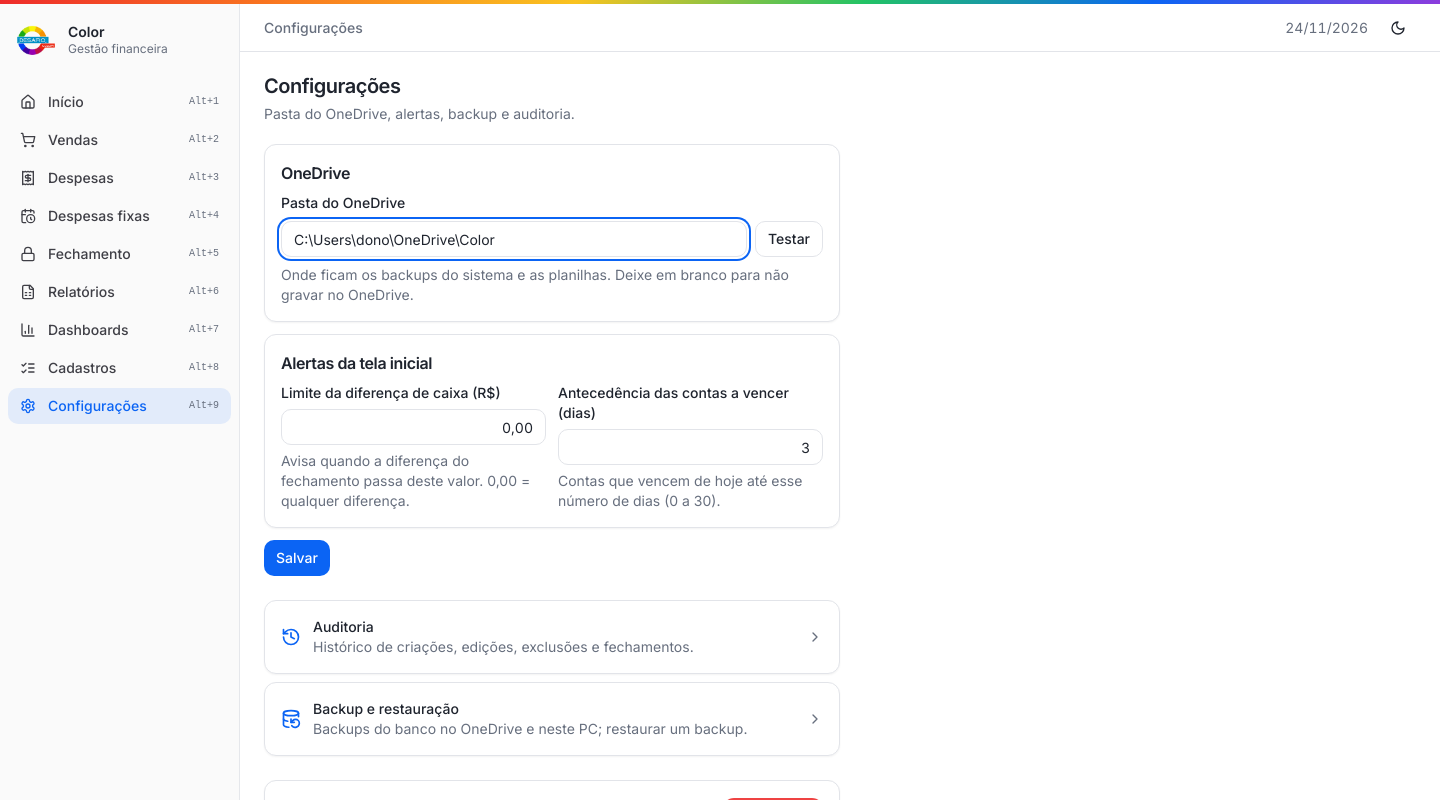
Test: FR-33: Configurações form › FR-33: Enter saves the values and focus returns to the first field
The width and height of the screenshot is (1440, 800).
Check: the field labelled "Pasta do OneDrive" holds "C:\\Users\\dono\\OneDrive\\Color", box [281,221,747,257]
Replace the text in the field labelled "Limite da diferença de caixa (R$)" with "5,50": {"x": 414, "y": 427} [281,409,546,445]
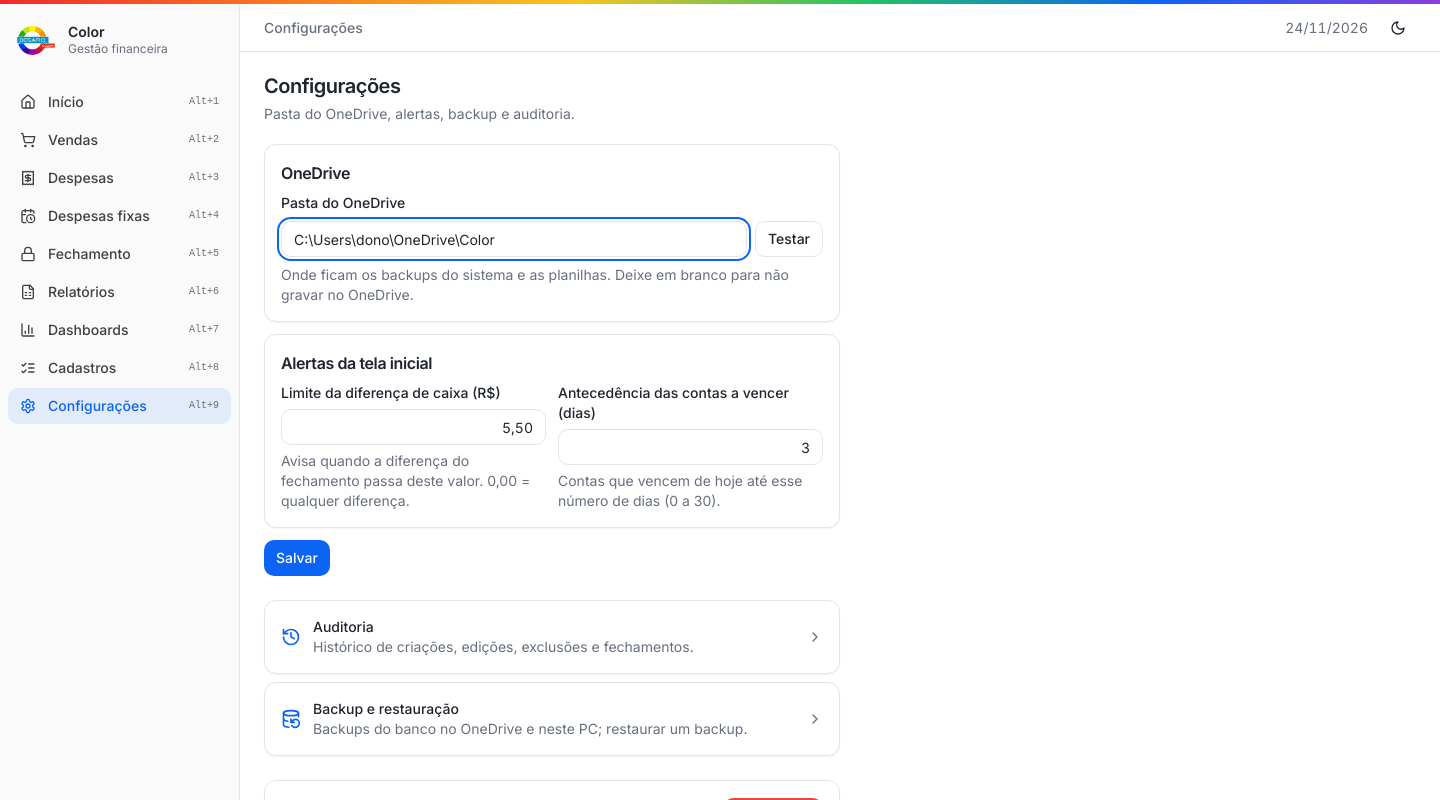
Replace the text in the field labelled "Antecedência das contas a vencer (dias)" with "7": {"x": 690, "y": 447} [558,429,823,465]
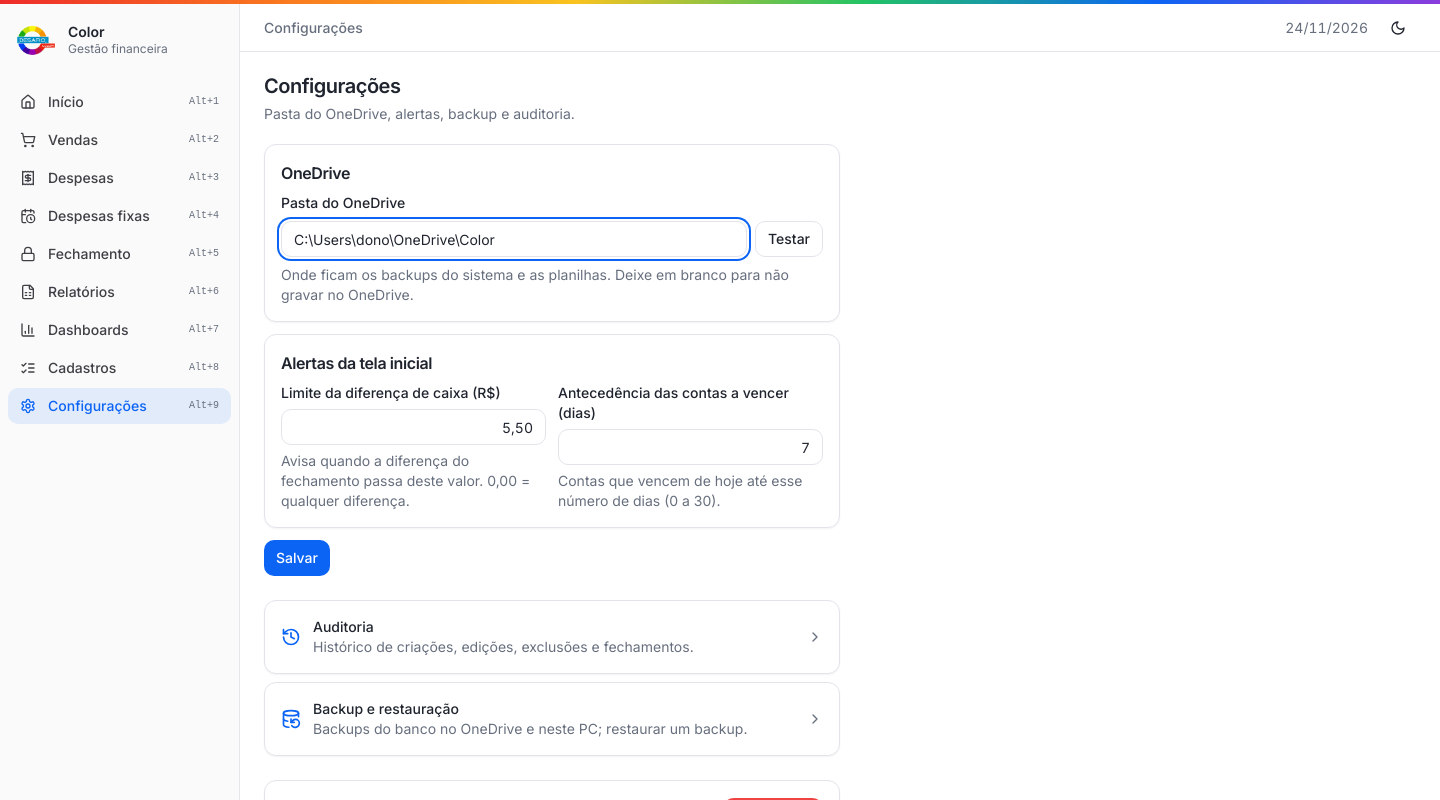
Submit the form named "Configurações", box [264,144,840,576]
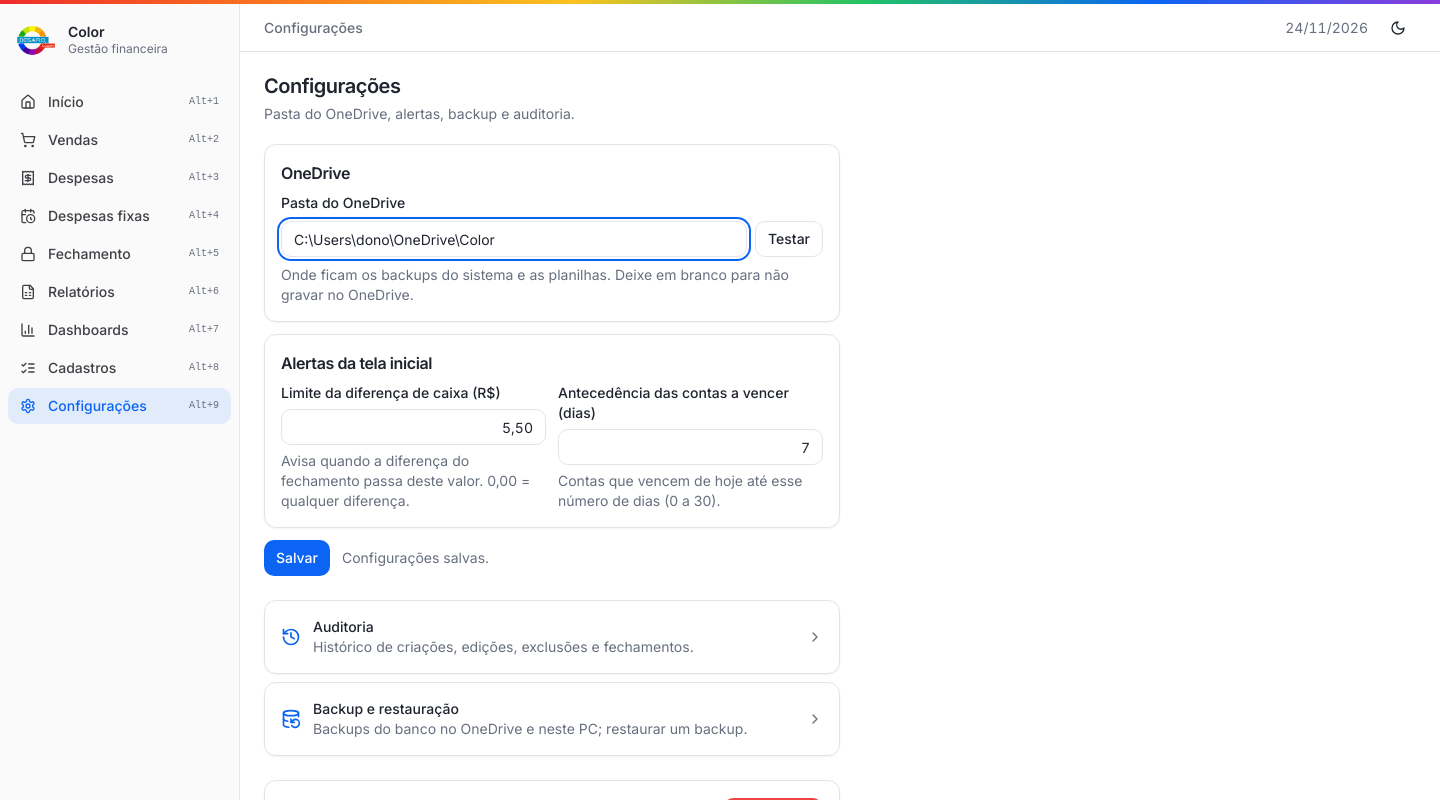
Check: the text "Configurações salvas." is shown, box [342,548,489,568]
